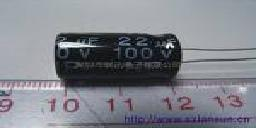Electrolytic-Capacitor: (52, 28, 256, 78)
